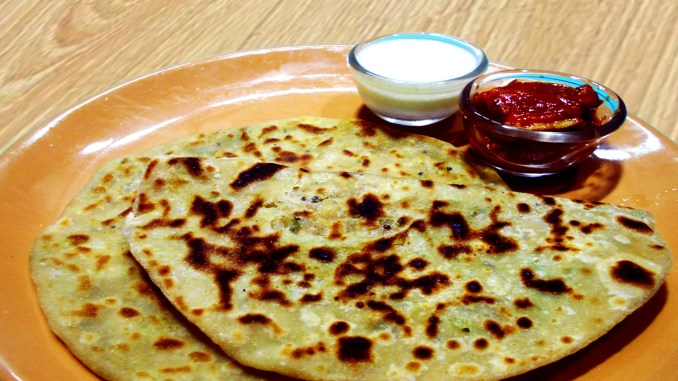aloo_paratha: (23, 115, 669, 381)
